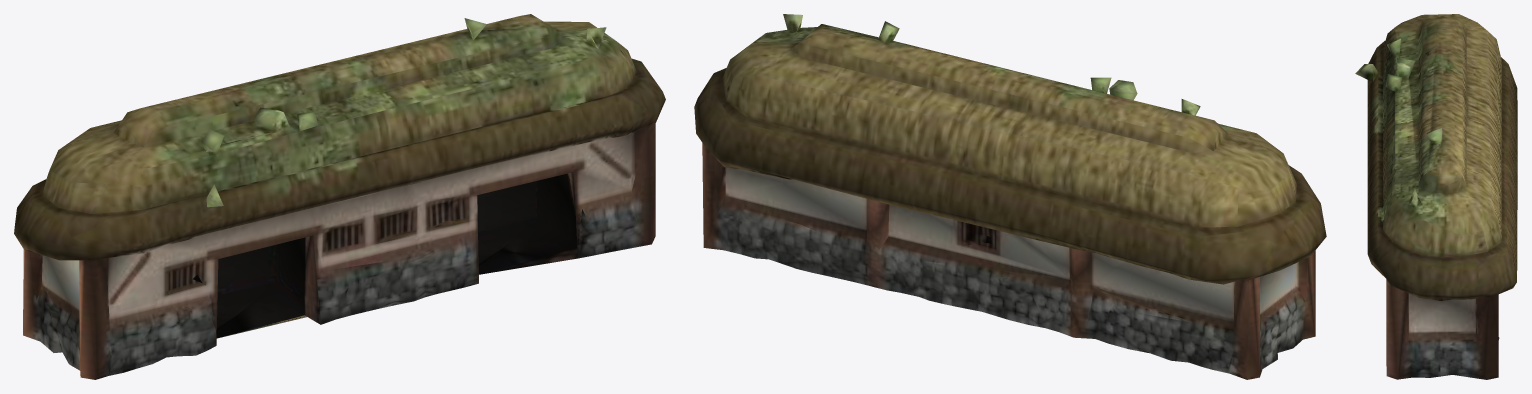
Rendered from house-two-door_far.glb.
The picture shows the model from 3 angles, left to right: view 1: azimuth 30°, elevation 25°; view 2: azimuth 150°, elevation 25°; view 3: azimuth 270°, elevation 25°; orthographic projection. The views are drawn at different scales.
Parts seen in each view (by area): view 1: house_two_door_lod1; view 2: house_two_door_lod1; view 3: house_two_door_lod1.
Part boxes in pixels (box(x1,y1,x2,y2)): house_two_door_lod1: box(14, 14, 665, 379); house_two_door_lod1: box(694, 14, 1326, 379); house_two_door_lod1: box(1355, 14, 1517, 379).
Size of the model in its own units: 12.08 by 4.4 by 3.4.
Materials: 1 (1 with a texture image).
